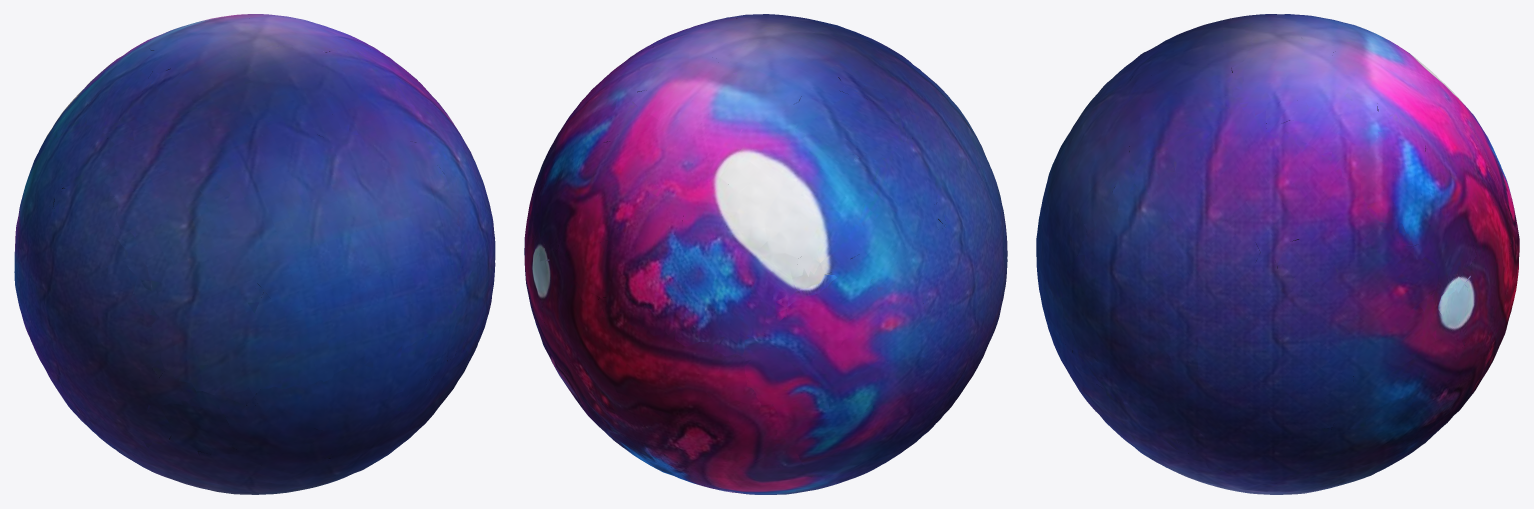
The model's file is meshf94e665f-3b5f-43f8-97a1-9b89d1c3ae00.glb.
3 renders of one model, left to right at view 1: azimuth 30°, elevation 25°; view 2: azimuth 150°, elevation 25°; view 3: azimuth 270°, elevation 25°, orthographic.
Parts seen in each view (by area): view 1: world; view 2: world; view 3: world.
Boxes of the visible parts, x1=… form: world: x1=14, y1=14, x2=495, y2=494; world: x1=524, y1=14, x2=1007, y2=494; world: x1=1036, y1=14, x2=1519, y2=494.
Size of the model in its own units: 0.9182 by 0.9169 by 0.9219.
1 material, 1 textured.
